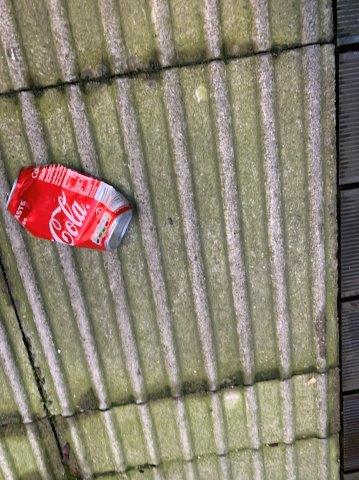kaleng: (8, 164, 131, 249)
